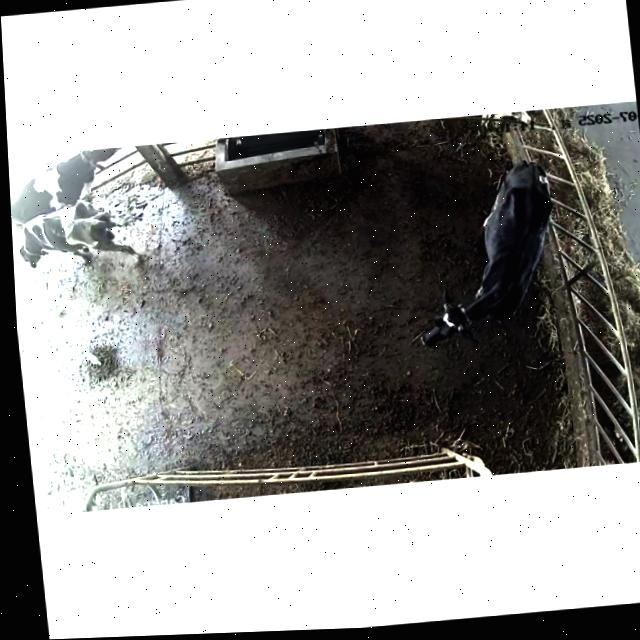stand: (383, 155, 578, 362), (10, 193, 135, 278), (8, 146, 132, 223)
